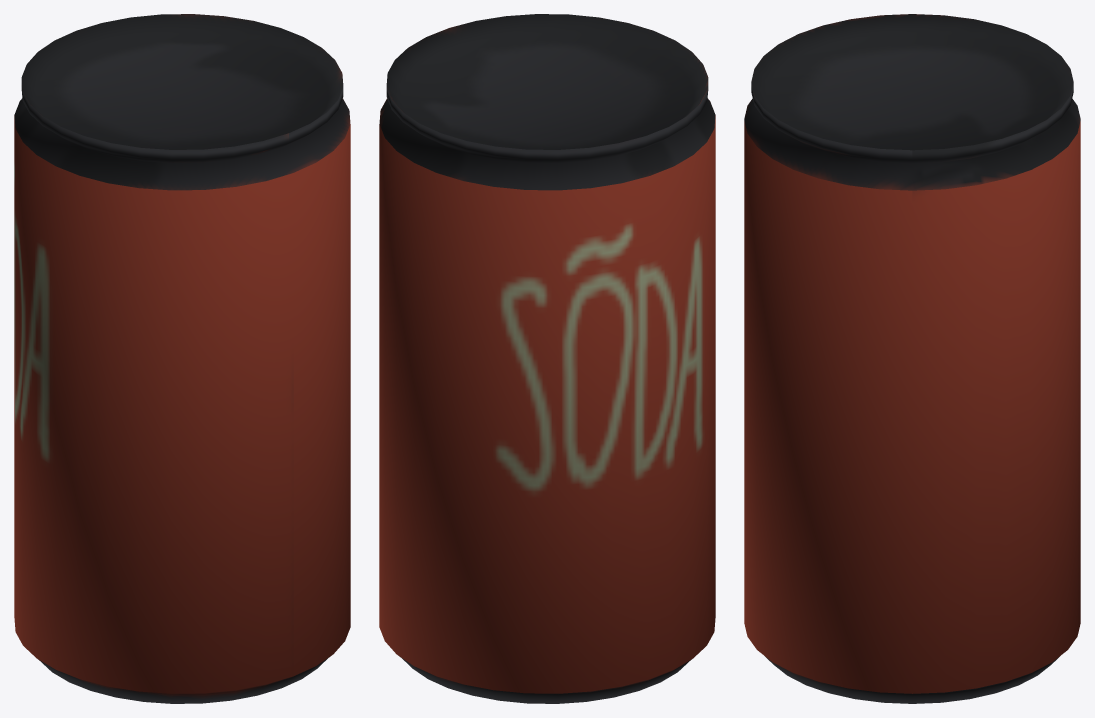
Rendered from soda.fbx.
3 renders of one model, left to right at view 1: azimuth 30°, elevation 25°; view 2: azimuth 150°, elevation 25°; view 3: azimuth 270°, elevation 25°, orthographic.
Visible parts, largest first — view 1: Soda; view 2: Soda; view 3: Soda.
Part boxes in pixels (x1,y1,x2,y2): Soda: (14,14,350,703); Soda: (379,14,715,703); Soda: (744,14,1080,703).
Size of the model in its own units: 200 by 366 by 200.
Materials: 1 (1 with a texture image).
